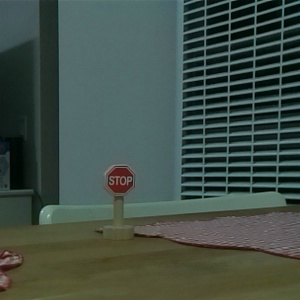stop sign: (100, 162, 138, 241)
